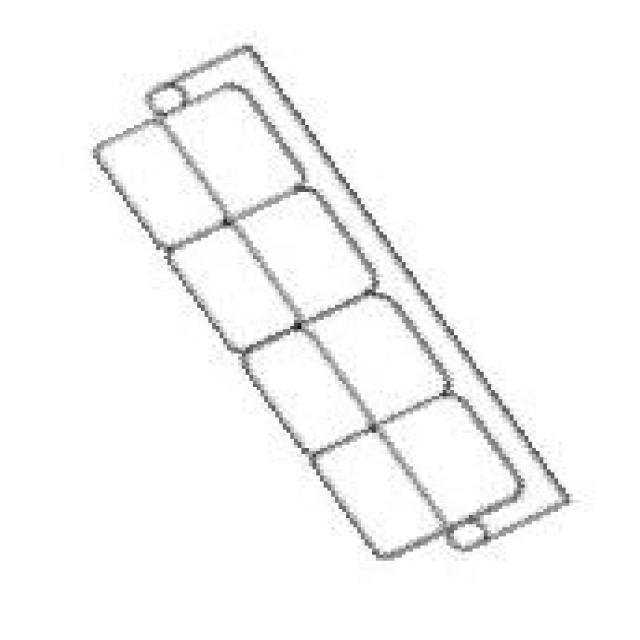sofa: (93, 42, 573, 558)
